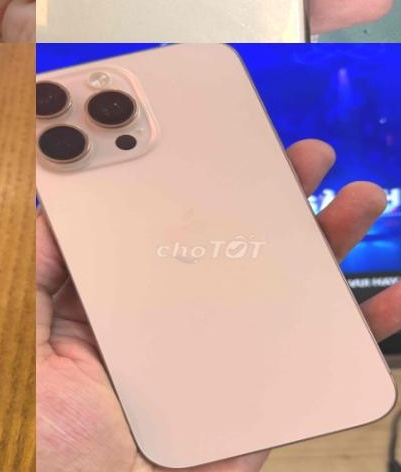scratch: (236, 13, 254, 37)
